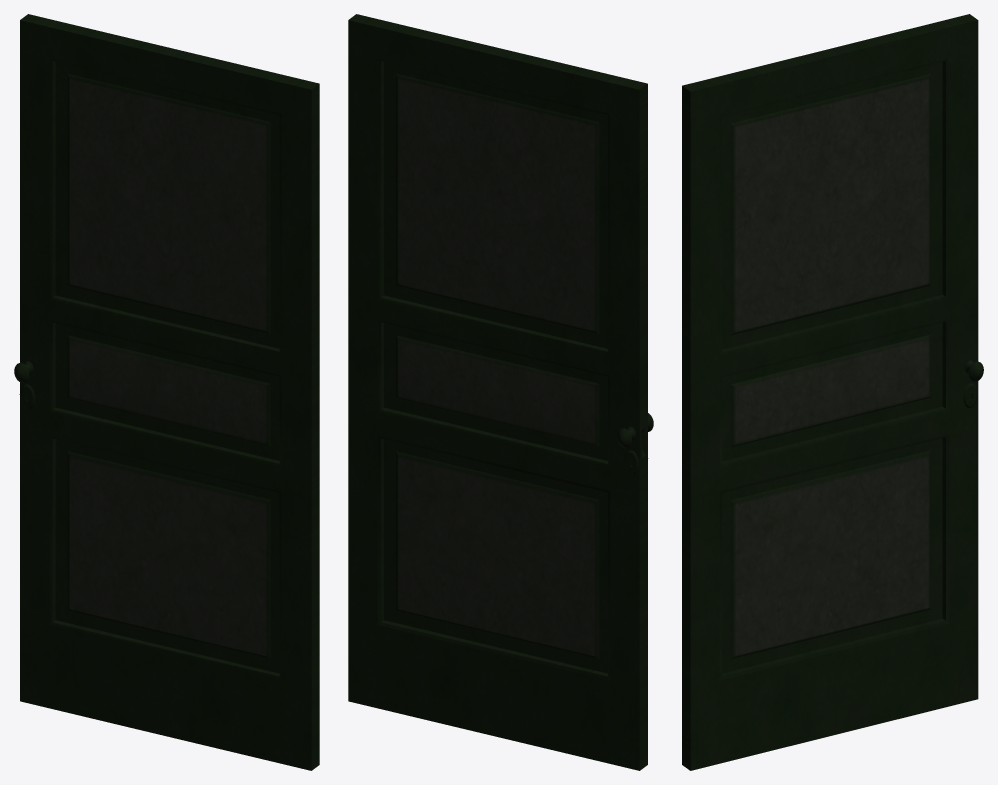
Rendered from Mod_Door_Anim_Open.fbx.
3 renders of one model, left to right at view 1: azimuth 30°, elevation 25°; view 2: azimuth 210°, elevation 25°; view 3: azimuth 270°, elevation 25°, orthographic.
Parts seen in each view (by area): view 1: polySurface3678; view 2: polySurface3678; view 3: polySurface3678.
Part boxes in pixels (x1,y1,x2,y2): polySurface3678: (14,14,319,770); polySurface3678: (348,14,653,770); polySurface3678: (682,14,983,770).
Size of the model in its own units: 58.87 by 224 by 90.17.
Materials: 1 (1 with a texture image).
